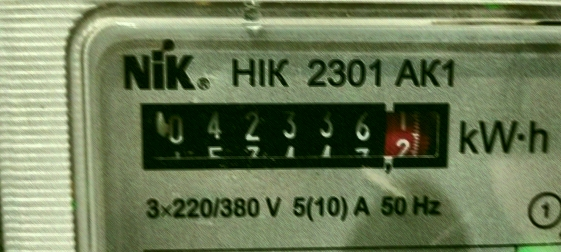0: (164, 111, 183, 144)
1: (394, 105, 406, 131)
2: (240, 107, 261, 141), (391, 136, 408, 157)
3: (277, 106, 295, 138), (316, 106, 333, 138)
4: (204, 107, 221, 139)
6: (351, 108, 371, 142)
screen: (126, 88, 461, 179)
